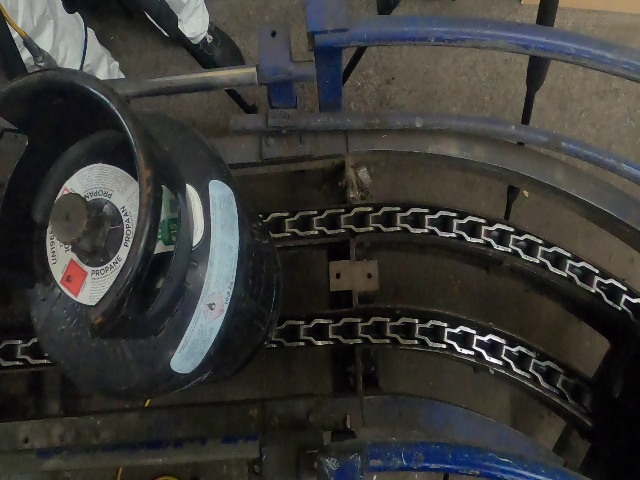gas_bottle: (0, 2, 631, 480)
